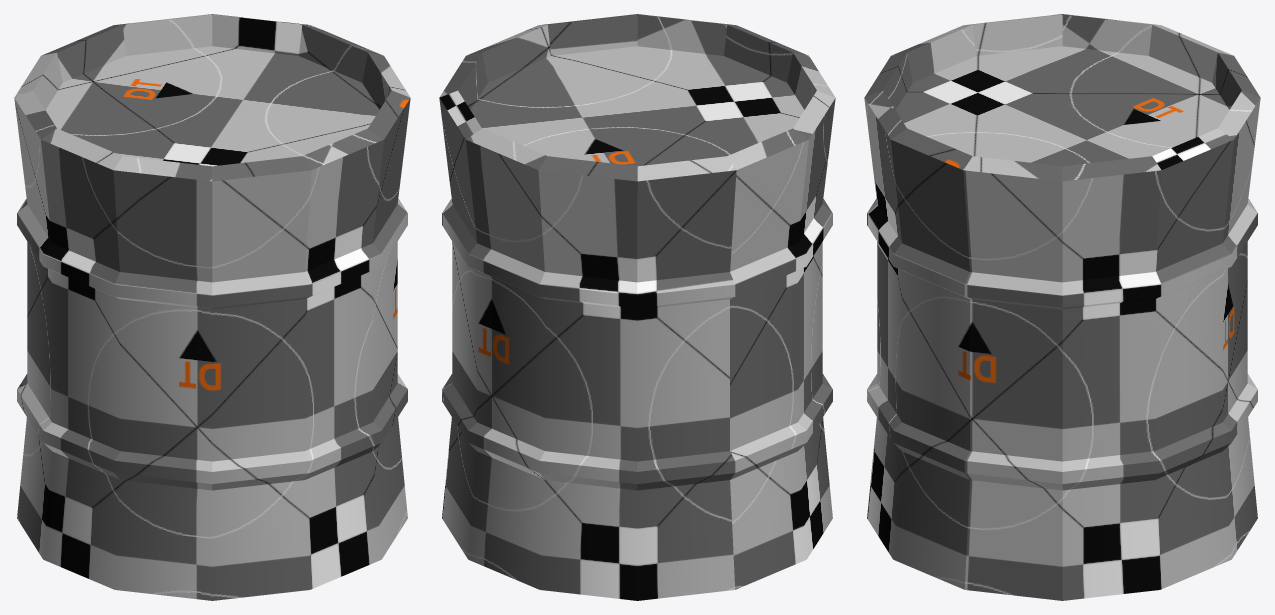
The model's file is tonneau-toxic.FBX.
3 views of the same model, side by side, from view 1: azimuth 30°, elevation 25°; view 2: azimuth 150°, elevation 25°; view 3: azimuth 270°, elevation 25° (orthographic).
Visible parts, largest first — view 1: Toxic_barrel; view 2: Toxic_barrel; view 3: Toxic_barrel.
Boxes of the visible parts, <box> form: Toxic_barrel: <box>14,14,410,600</box>; Toxic_barrel: <box>439,14,835,600</box>; Toxic_barrel: <box>864,14,1260,600</box>.
Bounding box in the file's own units: 30.72 × 36.59 × 30.72.
Materials: 1 (1 with a texture image).
